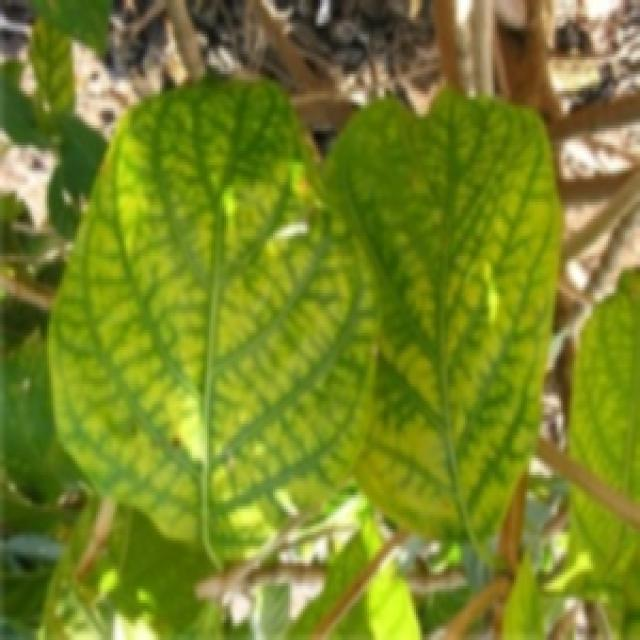Chlorosis: (26, 58, 550, 560)
